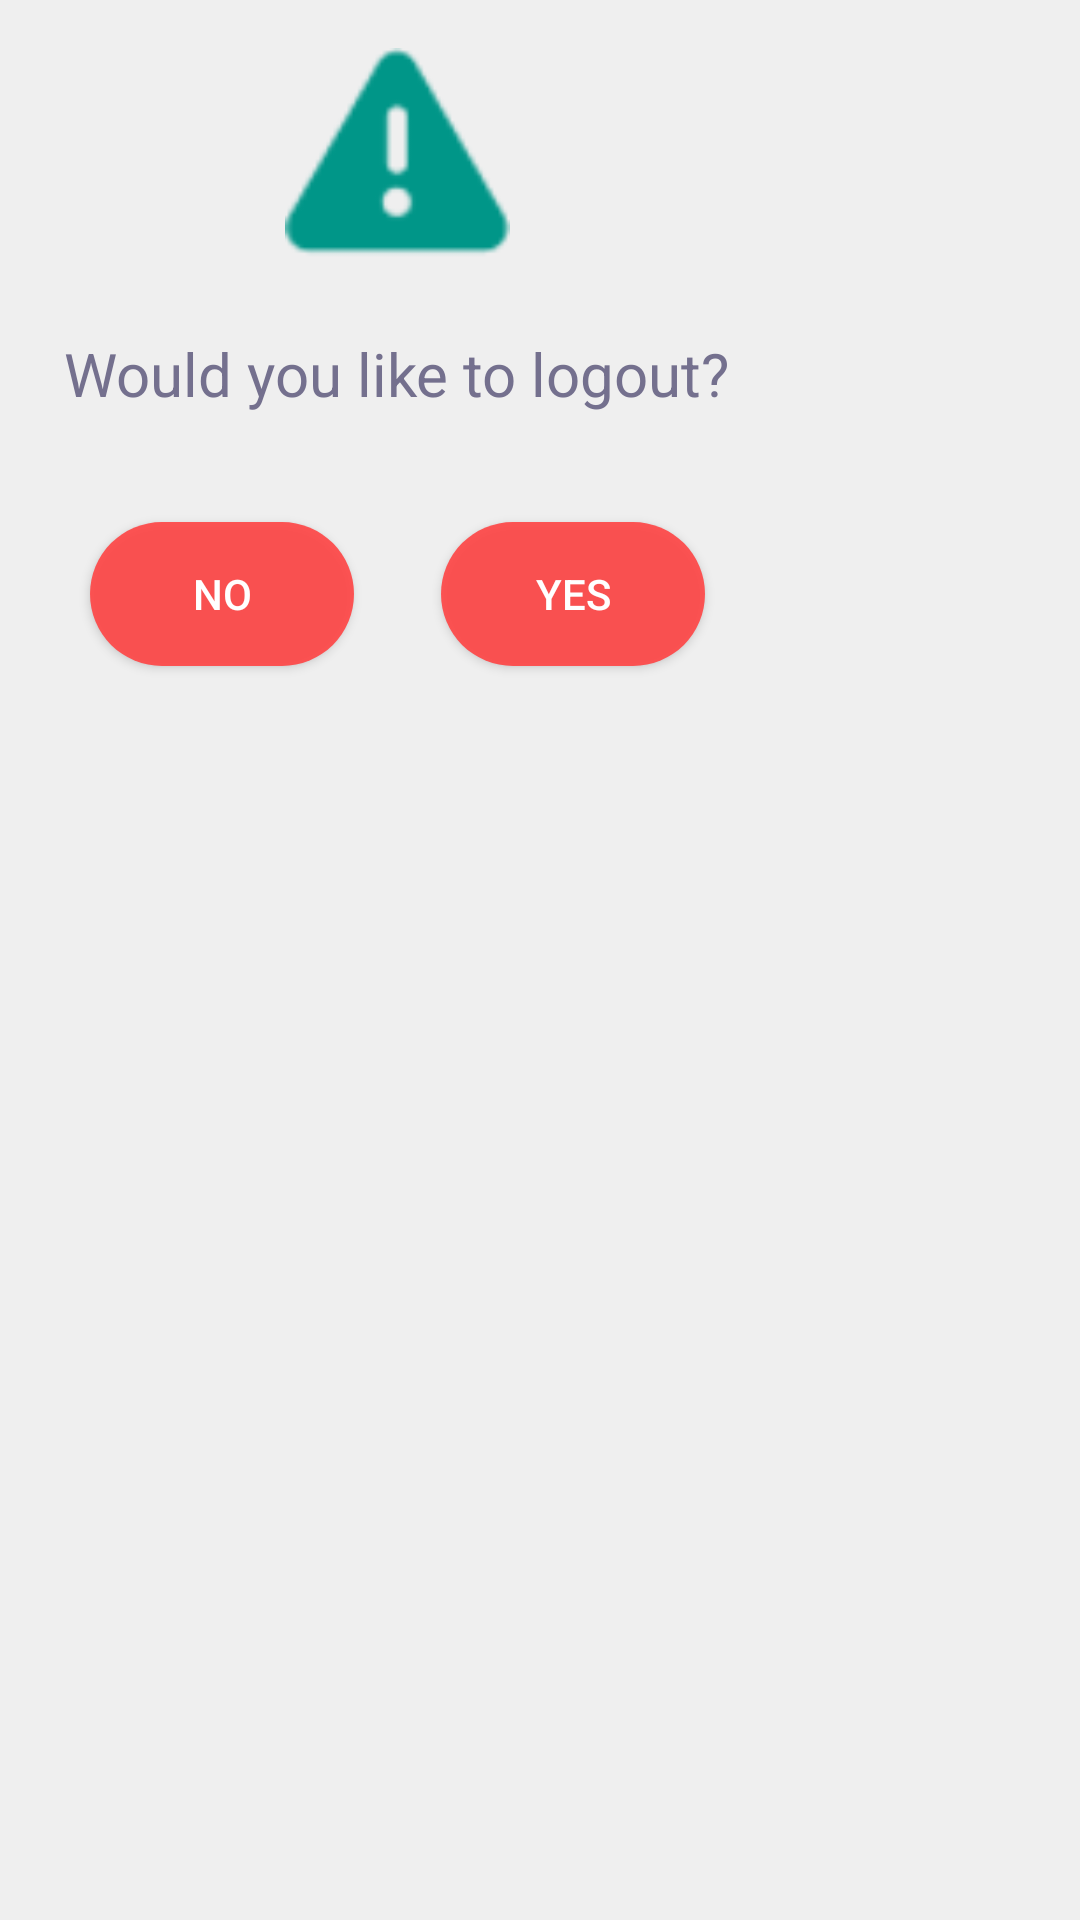

Icon bounding boxes for this 1080x1920 phone screenshot, format region(x1, y1, x2, y2):
alert: region(285, 48, 510, 253)
